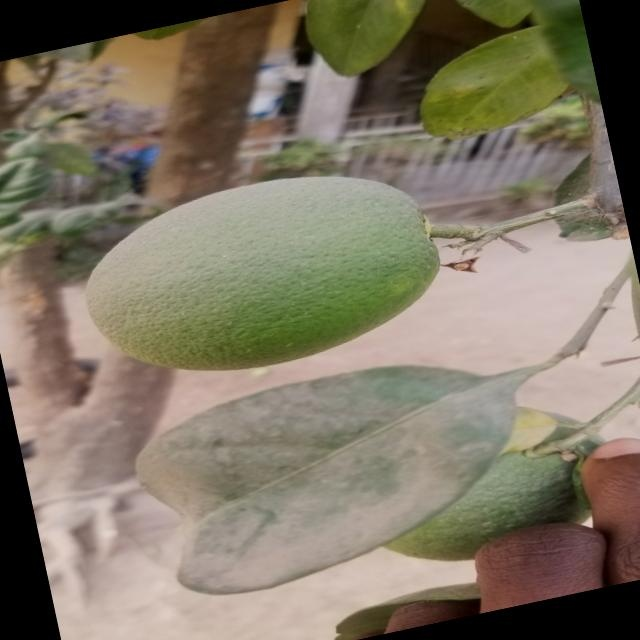agrume: (82, 153, 454, 395)
